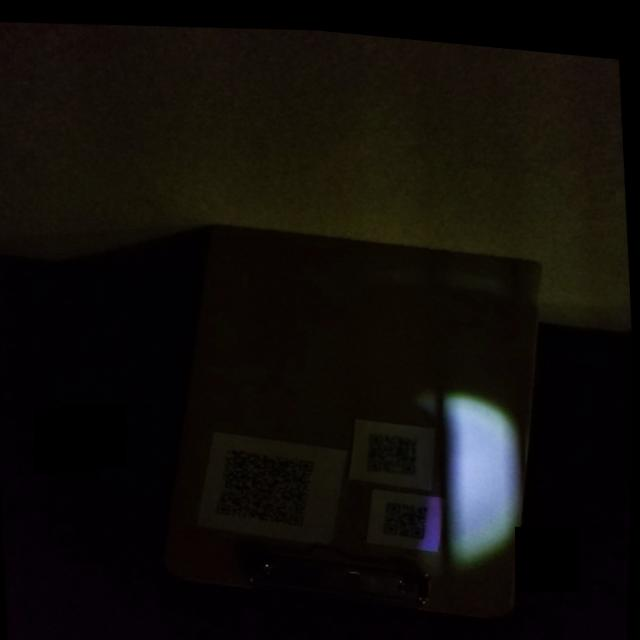QR_CODE: (204, 429, 326, 536), (357, 413, 438, 477), (375, 483, 443, 541)
